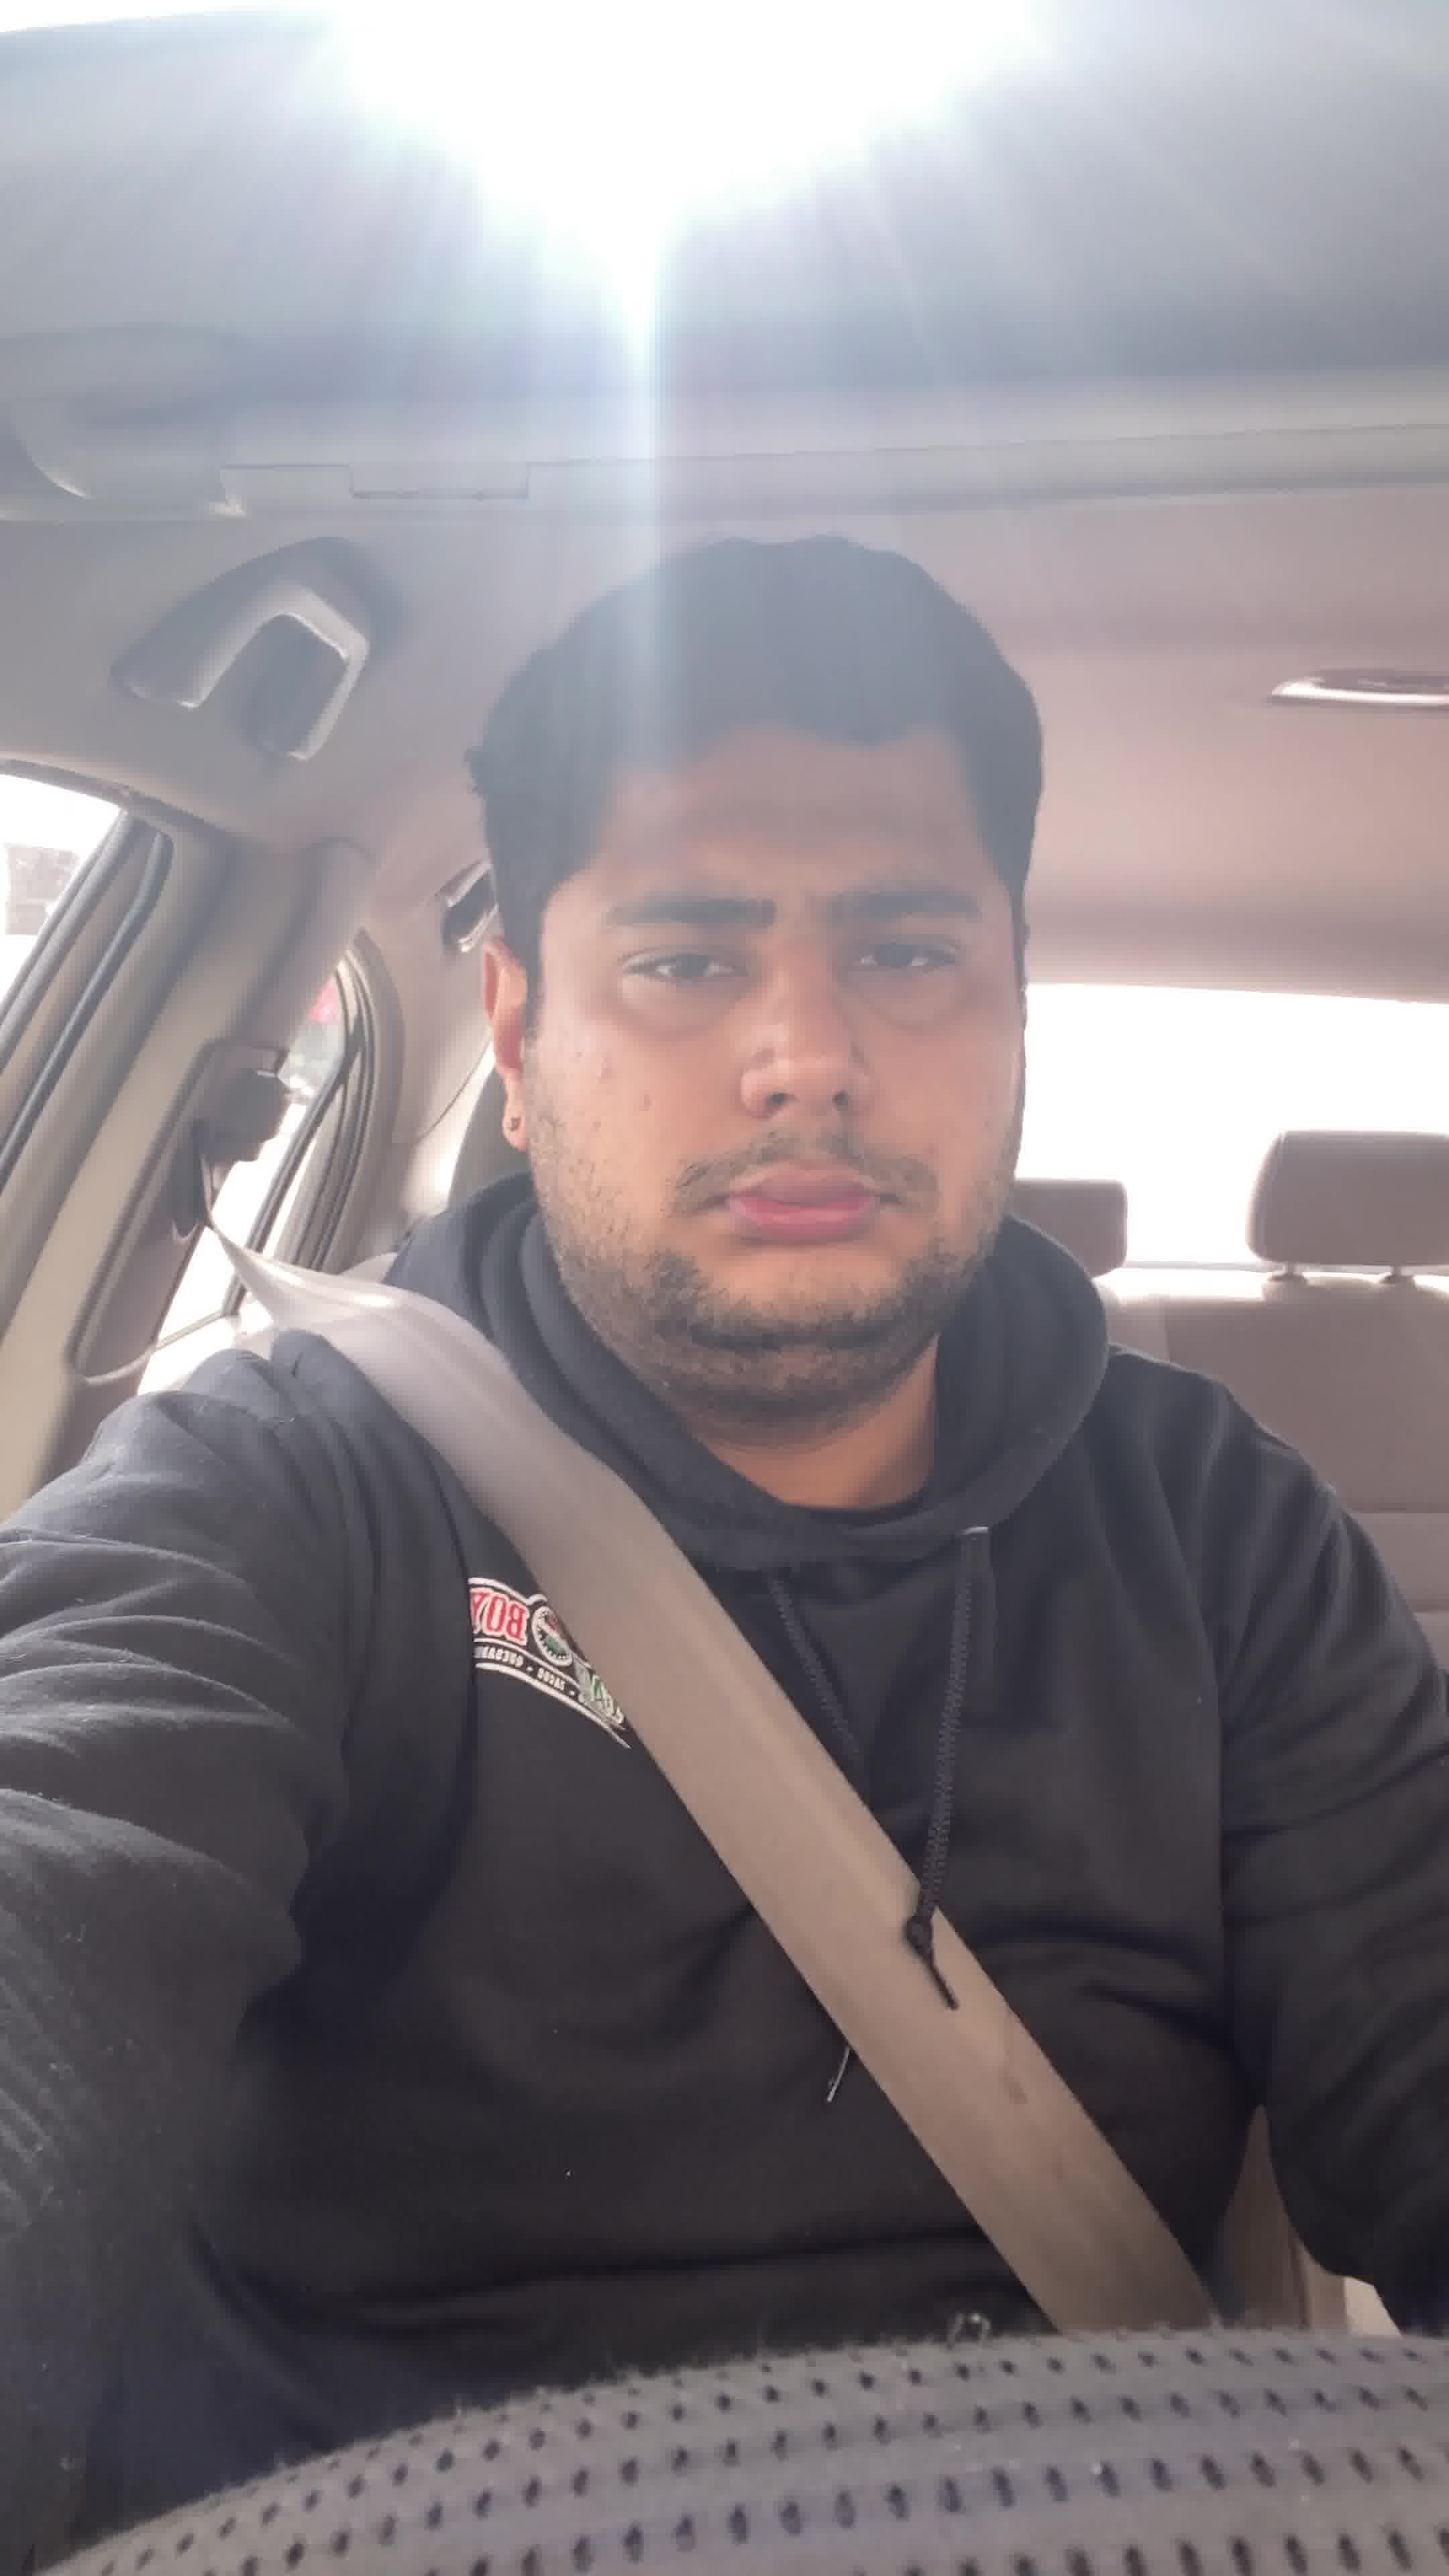seatbelt: (140, 1086, 1279, 2319)
